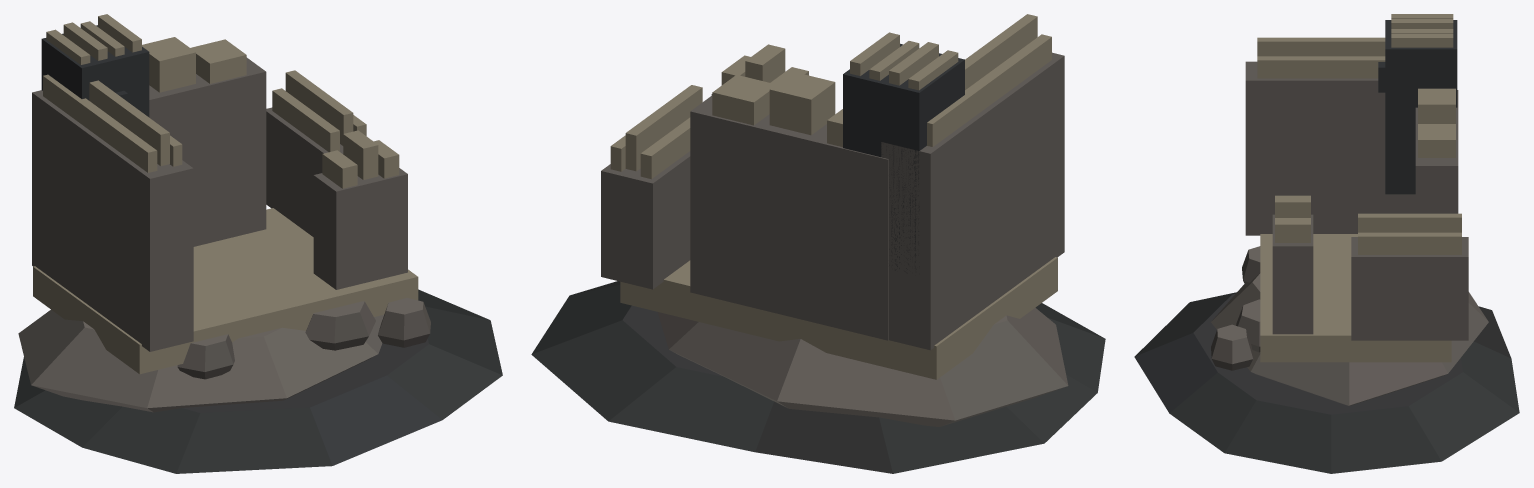
The model's file is argyn.glb.
3 views of the same model, side by side, from view 1: azimuth 30°, elevation 25°; view 2: azimuth 150°, elevation 25°; view 3: azimuth 270°, elevation 25° (orthographic). The views are drawn at different scales.
Visible parts, largest first — view 1: Argynvostholt · atlas landmark; view 2: Argynvostholt · atlas landmark; view 3: Argynvostholt · atlas landmark.
Boxes of the visible parts, x1=… form: Argynvostholt · atlas landmark: x1=14, y1=14, x2=502, y2=473; Argynvostholt · atlas landmark: x1=531, y1=14, x2=1105, y2=473; Argynvostholt · atlas landmark: x1=1134, y1=14, x2=1519, y2=473.
Bounding box in the file's own units: 2.07 × 1.52 × 1.71.
